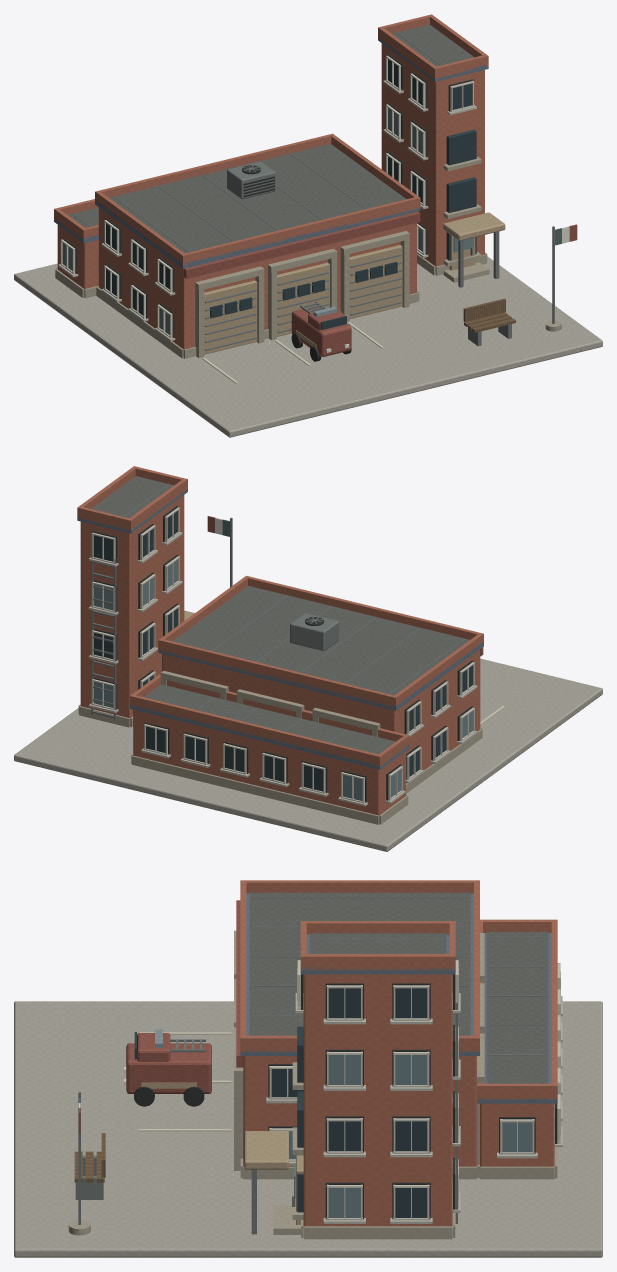
The model's file is EXP_FIRE_STATION.glb.
The picture shows the model from 3 angles, top to bottom: view 1: azimuth 30°, elevation 25°; view 2: azimuth 150°, elevation 25°; view 3: azimuth 270°, elevation 25°; orthographic projection. The views are drawn at different scales.
Visible parts, largest first — view 1: EXP_FIRE_STATION_Visual; view 2: EXP_FIRE_STATION_Visual; view 3: EXP_FIRE_STATION_Visual.
Boxes of the visible parts, box(x1,y1,x2,y2) form: EXP_FIRE_STATION_Visual: box(14, 14, 602, 437); EXP_FIRE_STATION_Visual: box(14, 466, 602, 851); EXP_FIRE_STATION_Visual: box(14, 880, 602, 1257).
Size of what is drawn, in the model's own units: 5.92 by 3.28 by 5.92.
Materials: 18 (12 with a texture image).
